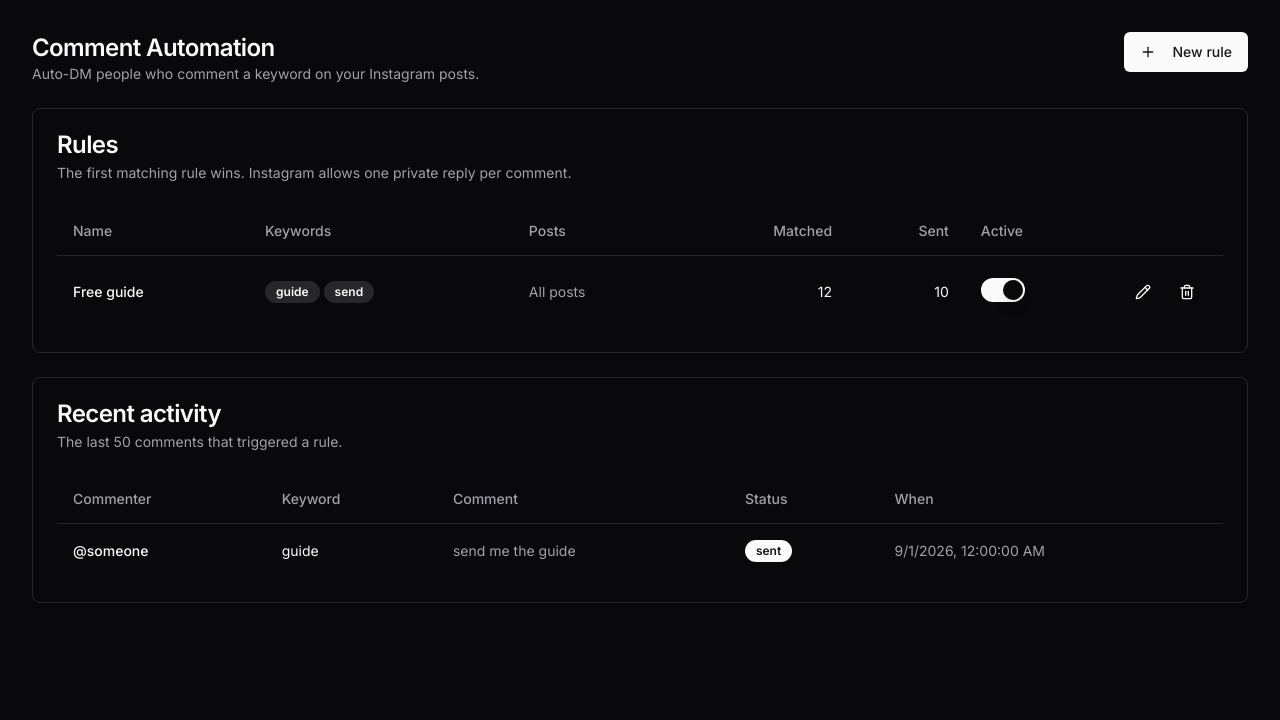
Test case: CommentAutomation › prefills the form when editing
Click the button named "edit free guide" at (1143, 292), box [1123,272,1163,312]
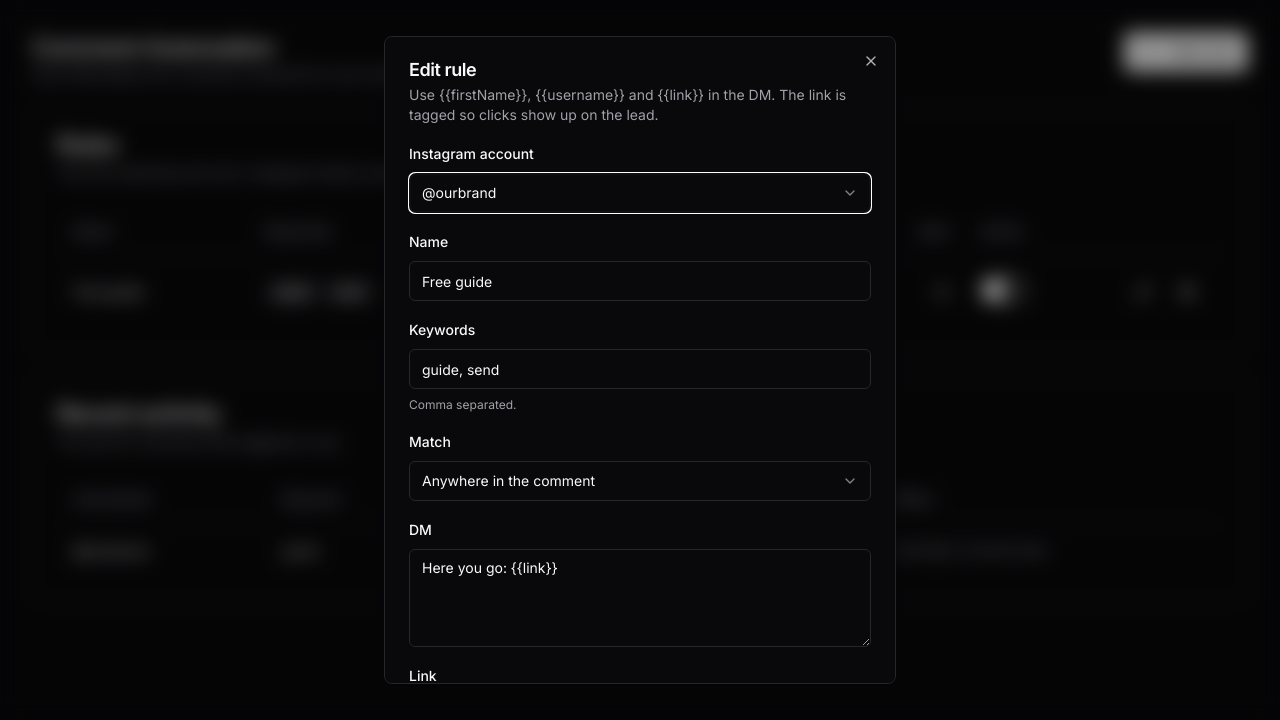
expect the field labelled "Name" holds "Free guide": met, box [409,261,871,301]
expect the field labelled "Keywords" holds "guide, send": met, box [409,349,871,389]
expect the text box labelled "DM" holds "Here you go: {{link}}": met, box [409,549,871,647]
